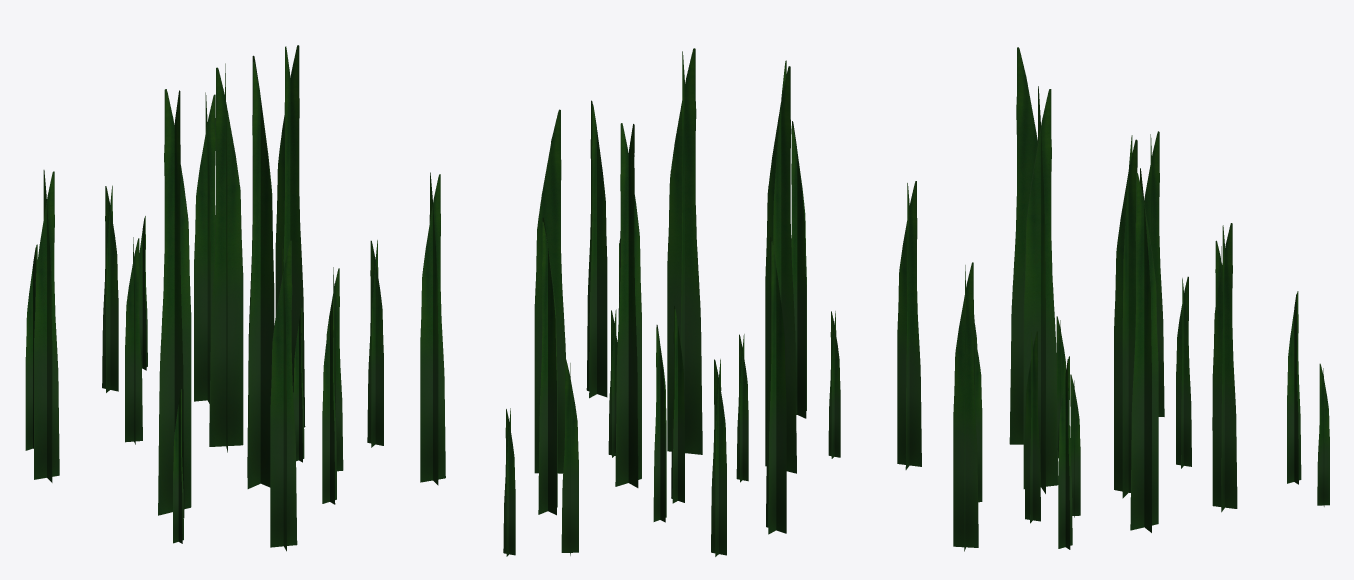
File: grass 1.fbx
3 views of the same model, side by side, from view 1: azimuth 30°, elevation 25°; view 2: azimuth 150°, elevation 25°; view 3: azimuth 270°, elevation 25° (orthographic). The views are drawn at different scales.
Visible parts, largest first — view 1: grass_group; view 2: grass_group; view 3: grass_group.
Boxes of the visible parts, box(x1,y1,x2,y2) form: grass_group: box(25, 45, 445, 551); grass_group: box(503, 48, 840, 556); grass_group: box(897, 47, 1329, 551).
Size of the model in its own units: 3.68 by 4.57 by 4.53.
